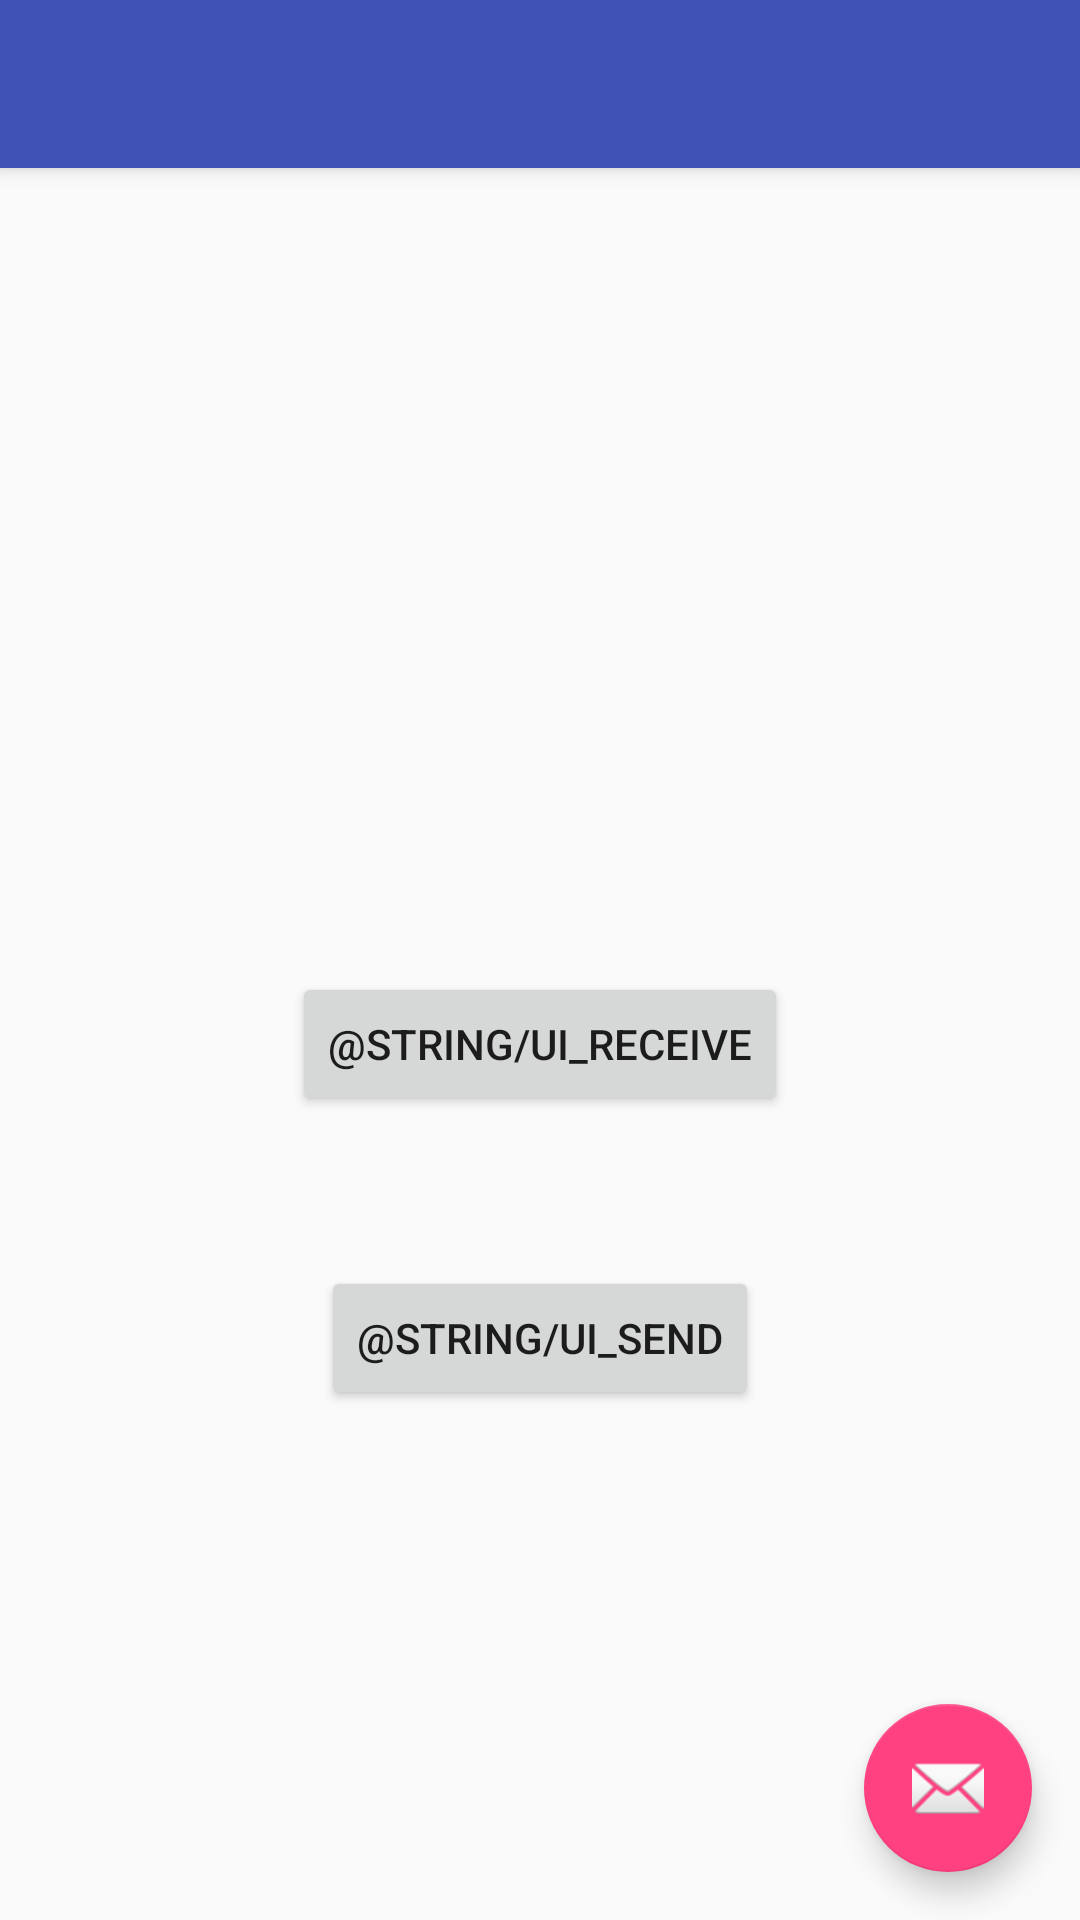

Icons on this 1080×1920 Android screen, each with its box as (x1, y1, x2, y2):
email: (864, 1704, 1032, 1872)
